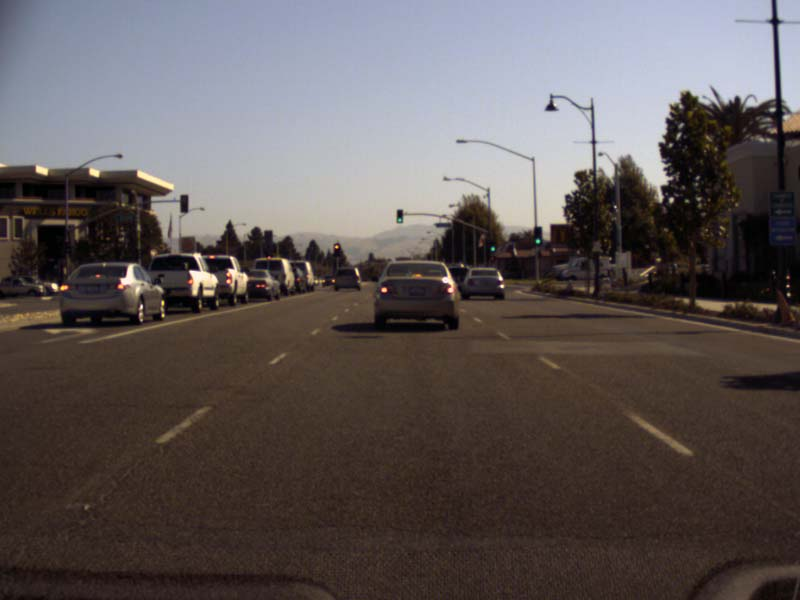Green: (533, 226, 542, 245), (489, 238, 496, 252), (396, 209, 403, 223)
Red: (333, 243, 340, 256)
